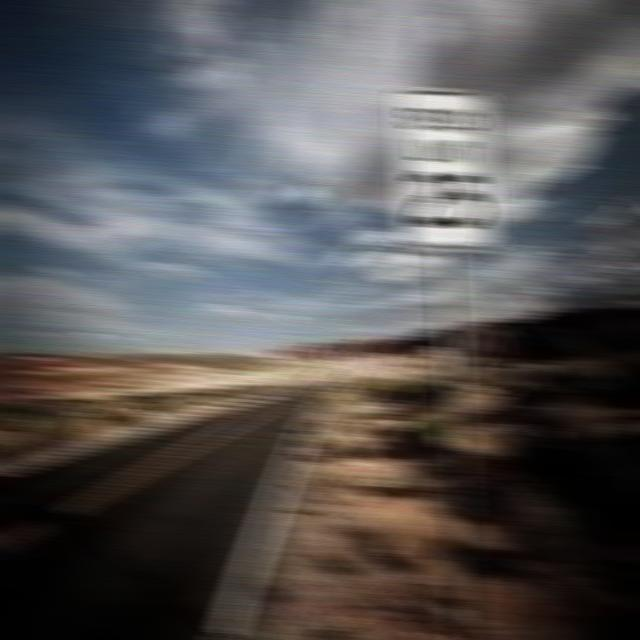speedLimit25: (391, 82, 498, 250)
